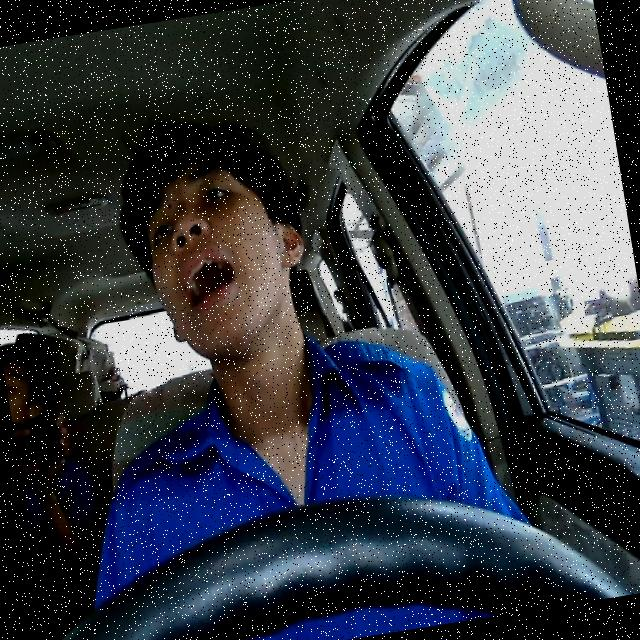yarning: (132, 138, 316, 362)
